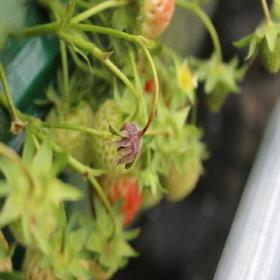Gray Mold: (106, 121, 149, 170)
